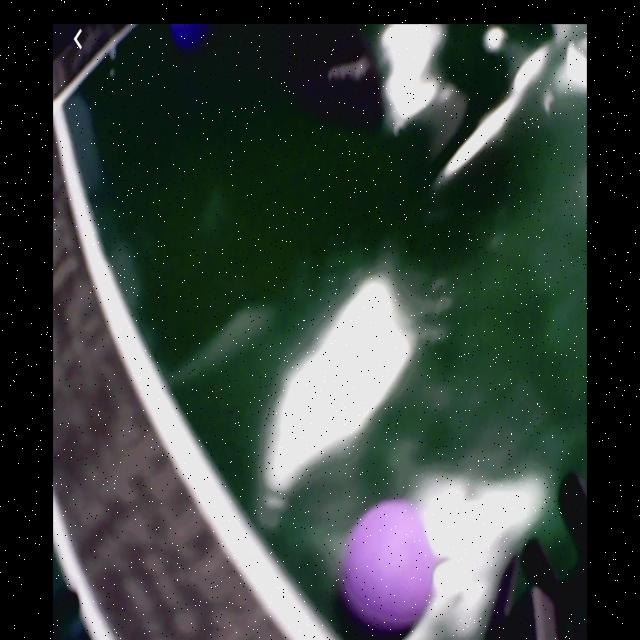ball: (344, 504, 438, 625), (169, 24, 204, 54)
